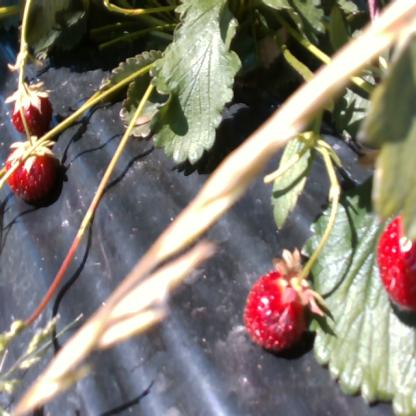ripe: (240, 273, 312, 358), (375, 212, 416, 313), (7, 138, 56, 204), (11, 88, 55, 135)
